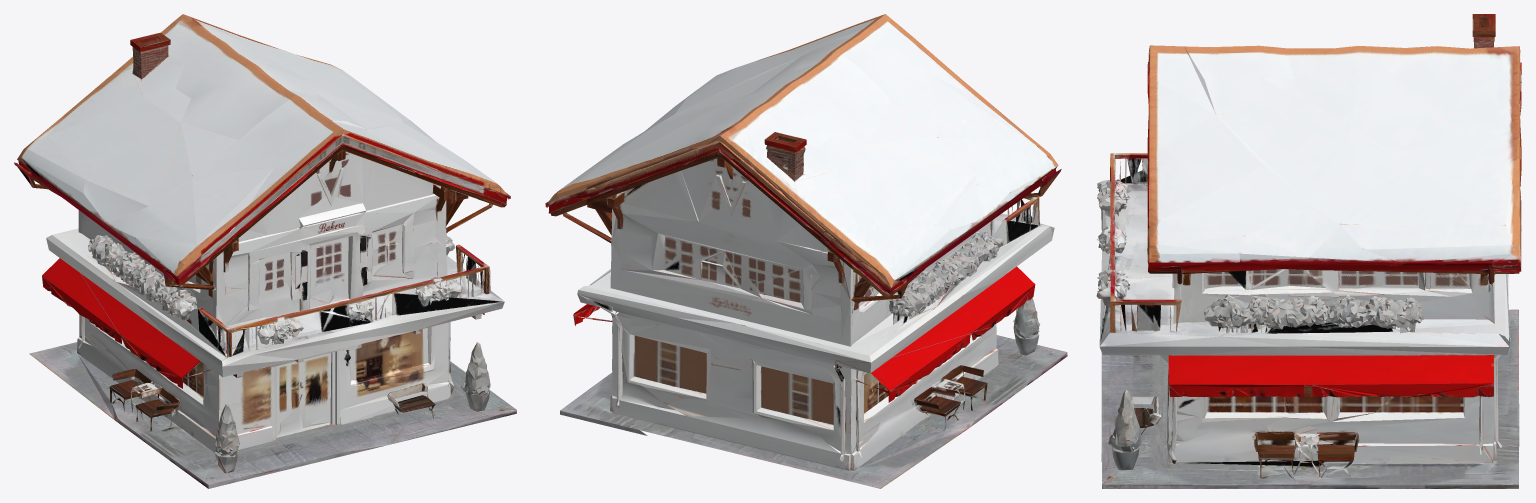
The model's file is cafe.glb.
3 renders of one model, left to right at view 1: azimuth 30°, elevation 25°; view 2: azimuth 150°, elevation 25°; view 3: azimuth 270°, elevation 25°, orthographic. The views are drawn at different scales.
Bounding box in the file's own units: 1.9 × 1.64 × 1.78.
Materials: 1 (1 with a texture image).
